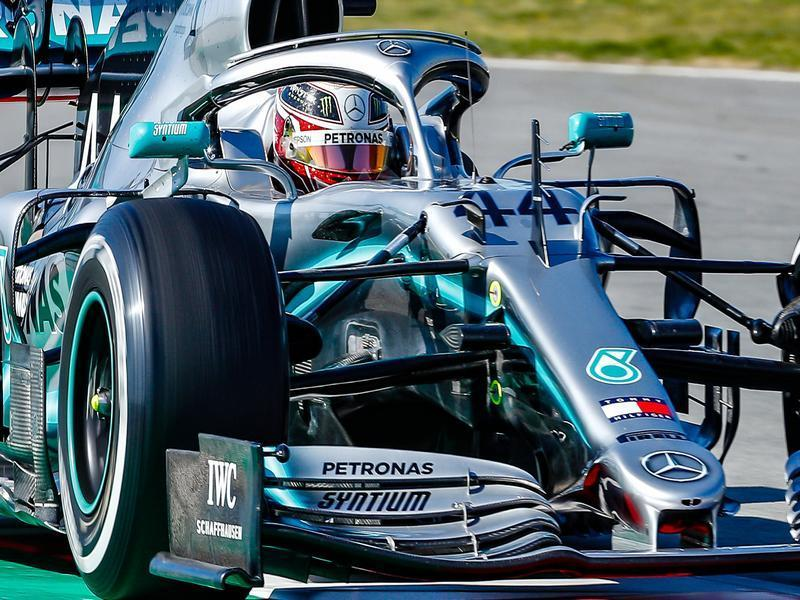f1: (3, 24, 797, 600)
